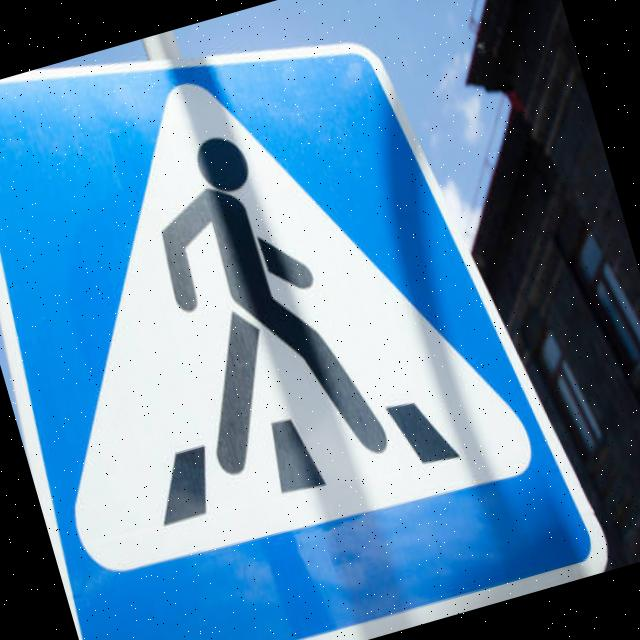crosswalk: (0, 0, 613, 640)
